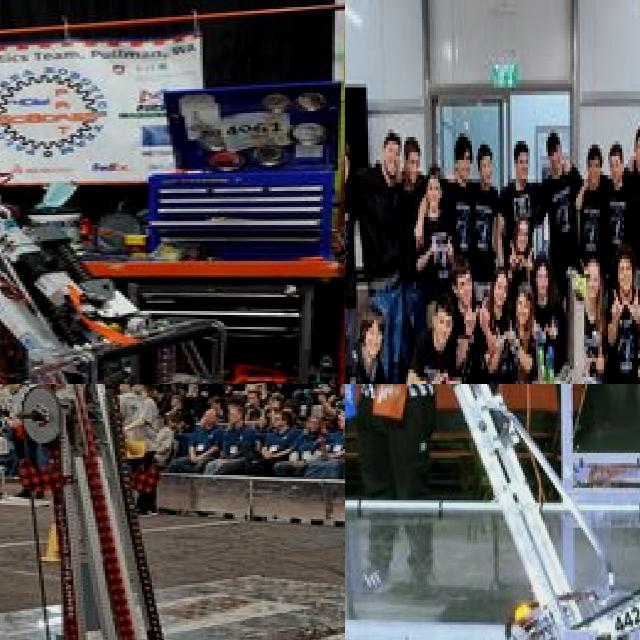FRC-Robots: (0, 108, 325, 384), (0, 384, 345, 640), (353, 384, 640, 640), (517, 236, 640, 384)
